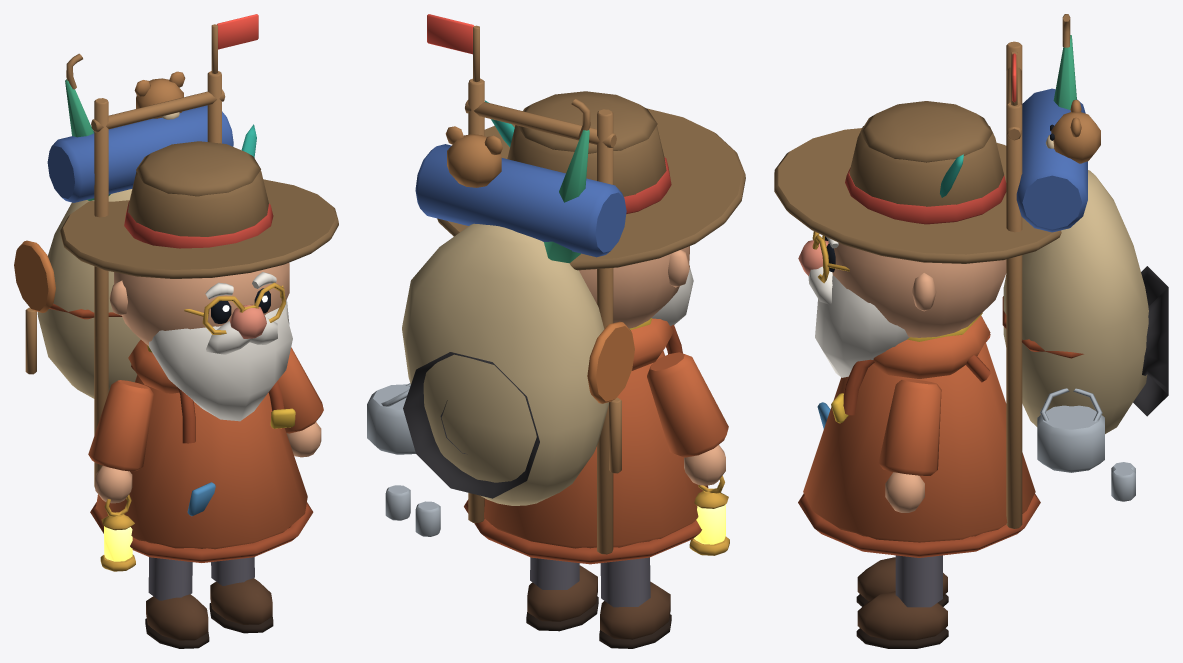
The model's file is npc_trader.glb.
3 views of the same model, side by side, from view 1: azimuth 30°, elevation 25°; view 2: azimuth 150°, elevation 25°; view 3: azimuth 270°, elevation 25° (orthographic). The views are drawn at different scales.
Parts seen in each view (by area): view 1: Body, Head, ArmL, LegL, LegR, ArmR; view 2: Body, Head, ArmL, LegL, LegR; view 3: Body, Head, LegR, ArmR, LegL.
Part boxes in pixels (box(x1,y1,x2,y2)): Body: box(14, 14, 313, 562); Head: box(60, 124, 338, 421); ArmL: box(88, 380, 153, 571); LegL: box(145, 557, 209, 648); LegR: box(209, 557, 273, 633); ArmR: box(278, 347, 323, 457); Body: box(367, 14, 708, 564); Head: box(437, 91, 745, 328); ArmL: box(647, 352, 729, 555); LegL: box(599, 557, 671, 648); LegR: box(526, 557, 598, 631); Body: box(798, 14, 1168, 557); Head: box(774, 101, 1061, 377); LegR: box(856, 555, 948, 648); ArmR: box(878, 379, 941, 512); LegL: box(856, 557, 948, 606).
Size of the model in its own units: 0.645 by 1.4 by 0.8305.
